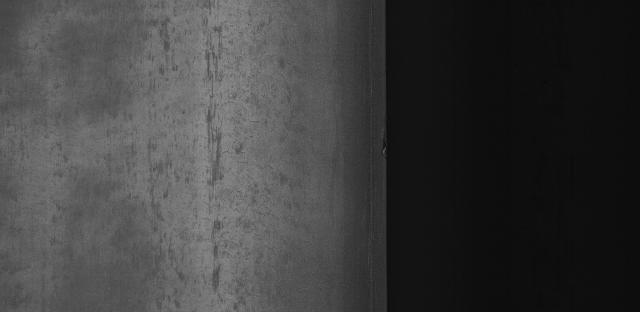silk_spot: (121, 124, 241, 217), (194, 220, 270, 312), (177, 14, 242, 100)
